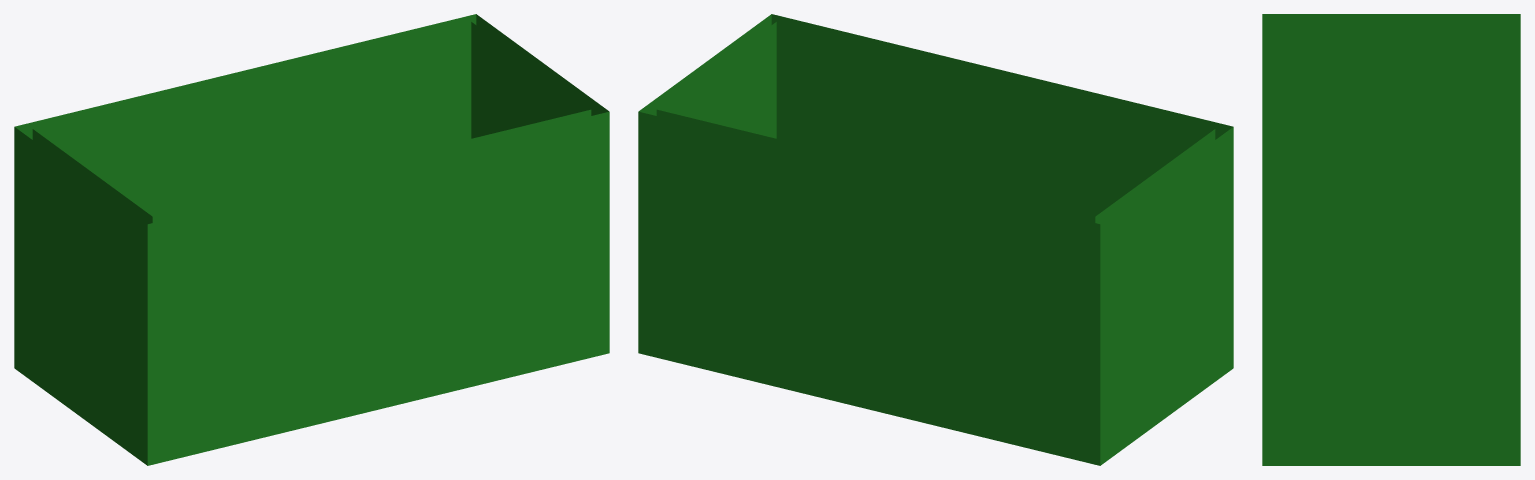
Rendered from Puzzle_002_Elevator_Shaft_Middle.fbx.
3 renders of one model, left to right at view 1: azimuth 30°, elevation 25°; view 2: azimuth 150°, elevation 25°; view 3: azimuth 270°, elevation 25°, orthographic. The views are drawn at different scales.
Visible parts, largest first — view 1: Puzzle_002_Elevator_Shaft_Middle; view 2: Puzzle_002_Elevator_Shaft_Middle; view 3: Puzzle_002_Elevator_Shaft_Middle.
Boxes of the visible parts, x1,y1,x2,y2 form: Puzzle_002_Elevator_Shaft_Middle: [14, 14, 609, 465]; Puzzle_002_Elevator_Shaft_Middle: [638, 14, 1233, 465]; Puzzle_002_Elevator_Shaft_Middle: [1262, 14, 1520, 465].
Size of the model in its own units: 800 by 400 by 400.
